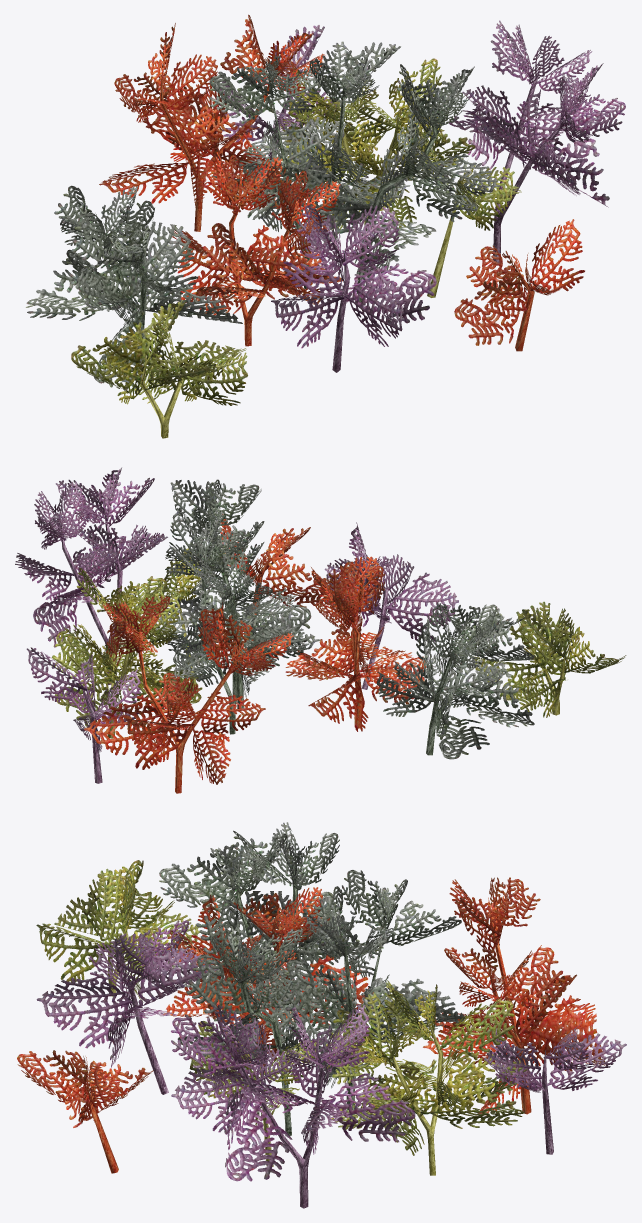
File: fanlow.glb
3 renders of one model, top to bottom at view 1: azimuth 30°, elevation 25°; view 2: azimuth 150°, elevation 25°; view 3: azimuth 270°, elevation 25°, orthographic. The views are drawn at different scales.
Visible parts, largest first — view 1: LOD0_FanCoral_Cluster_Low_Mat_0, LOD0_FanCoralSkin_Orange_Mat_0, LOD0_FanCoralSkin_Violet_Mat_0, LOD0_FanCoralSkin_White_Mat_0, LOD0_FanCoralSkin_Yellow_Mat_0; view 2: LOD0_FanCoral_Cluster_Low_Mat_0, LOD0_FanCoralSkin_Orange_Mat_0, LOD0_FanCoralSkin_Violet_Mat_0, LOD0_FanCoralSkin_White_Mat_0, LOD0_FanCoralSkin_Yellow_Mat_0; view 3: LOD0_FanCoral_Cluster_Low_Mat_0, LOD0_FanCoralSkin_Violet_Mat_0, LOD0_FanCoralSkin_White_Mat_0, LOD0_FanCoralSkin_Orange_Mat_0, LOD0_FanCoralSkin_Yellow_Mat_0.
Part boxes in pixels (bbox=[...]): LOD0_FanCoral_Cluster_Low_Mat_0: bbox=[26, 14, 625, 405]; LOD0_FanCoralSkin_Orange_Mat_0: bbox=[159, 51, 534, 351]; LOD0_FanCoralSkin_Violet_Mat_0: bbox=[269, 62, 575, 372]; LOD0_FanCoralSkin_White_Mat_0: bbox=[95, 71, 438, 356]; LOD0_FanCoralSkin_Yellow_Mat_0: bbox=[140, 111, 467, 438]; LOD0_FanCoral_Cluster_Low_Mat_0: bbox=[15, 467, 626, 784]; LOD0_FanCoralSkin_Orange_Mat_0: bbox=[138, 556, 361, 793]; LOD0_FanCoralSkin_Violet_Mat_0: bbox=[60, 511, 388, 783]; LOD0_FanCoralSkin_White_Mat_0: bbox=[202, 517, 476, 755]; LOD0_FanCoralSkin_Yellow_Mat_0: bbox=[107, 574, 565, 738]; LOD0_FanCoral_Cluster_Low_Mat_0: bbox=[17, 822, 626, 1181]; LOD0_FanCoralSkin_Violet_Mat_0: bbox=[128, 972, 553, 1208]; LOD0_FanCoralSkin_White_Mat_0: bbox=[236, 845, 390, 1136]; LOD0_FanCoralSkin_Orange_Mat_0: bbox=[88, 897, 531, 1173]; LOD0_FanCoralSkin_Yellow_Mat_0: bbox=[107, 902, 443, 1175].
Bounding box in the file's own units: 0.1752 × 0.0652 × 0.1474.
Materials: 5 (5 with a texture image).
